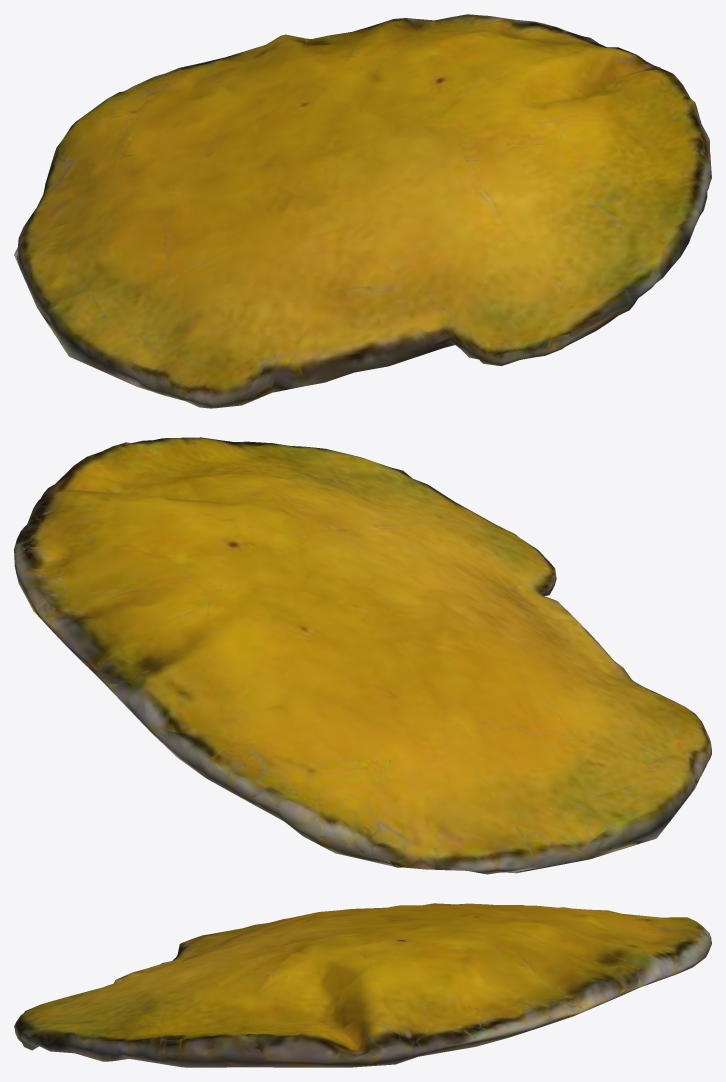
The model's file is hall.glb.
3 renders of one model, top to bottom at view 1: azimuth 30°, elevation 25°; view 2: azimuth 150°, elevation 25°; view 3: azimuth 270°, elevation 25°, orthographic. The views are drawn at different scales.
Size of the model in its own units: 0.8099 by 0.2537 by 0.8178.
Materials: 1 (1 with a texture image).
